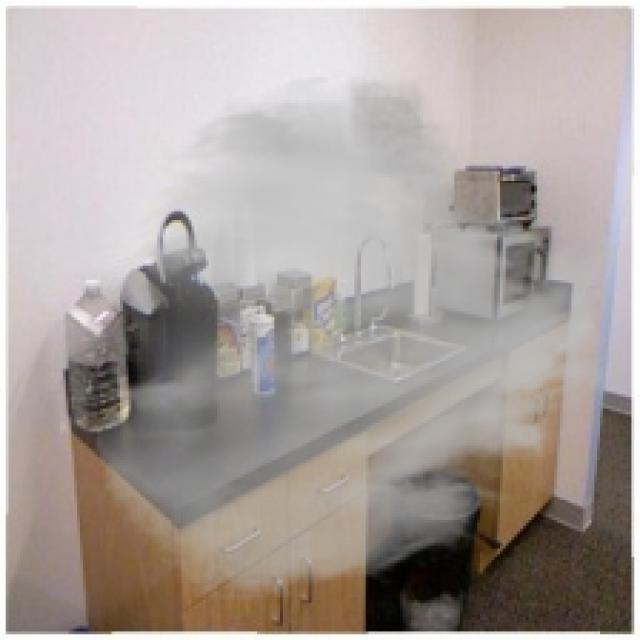smoke: (91, 69, 634, 606)
